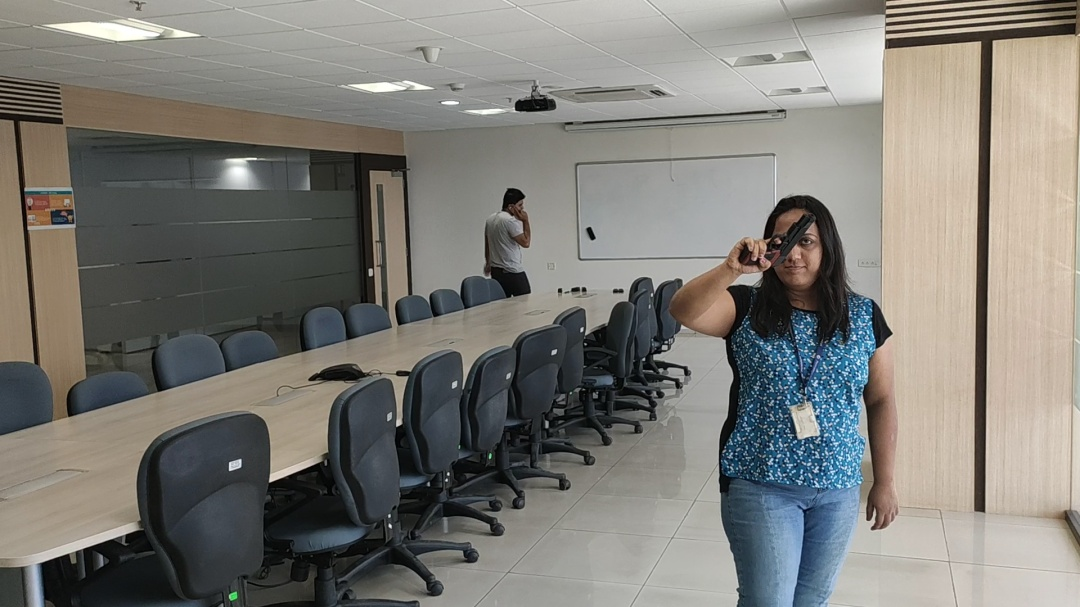gun: (767, 212, 819, 269)
